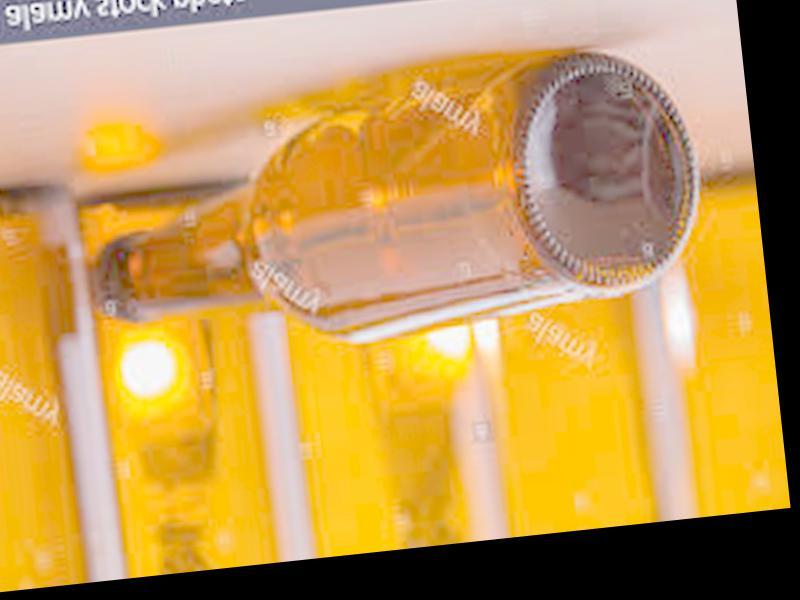Beer: (80, 28, 714, 372)
